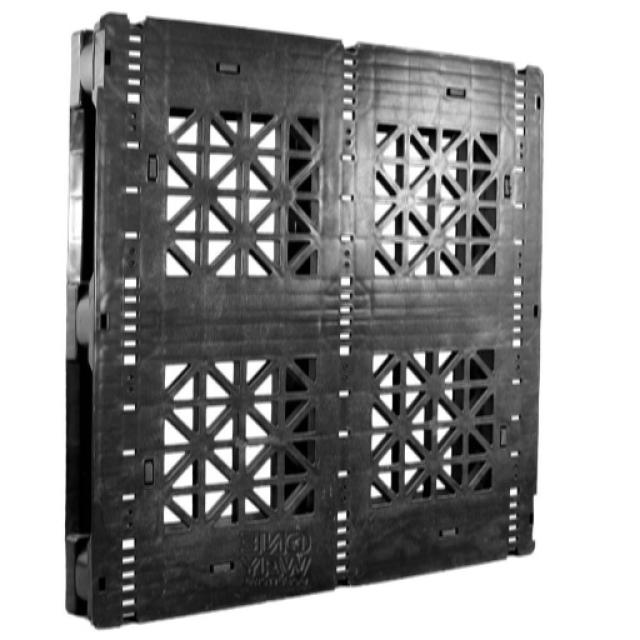non-igps: (60, 10, 548, 631)
